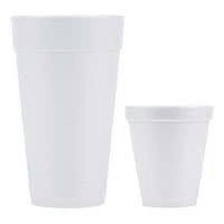paper_cup: (8, 6, 127, 212), (121, 97, 216, 212)
